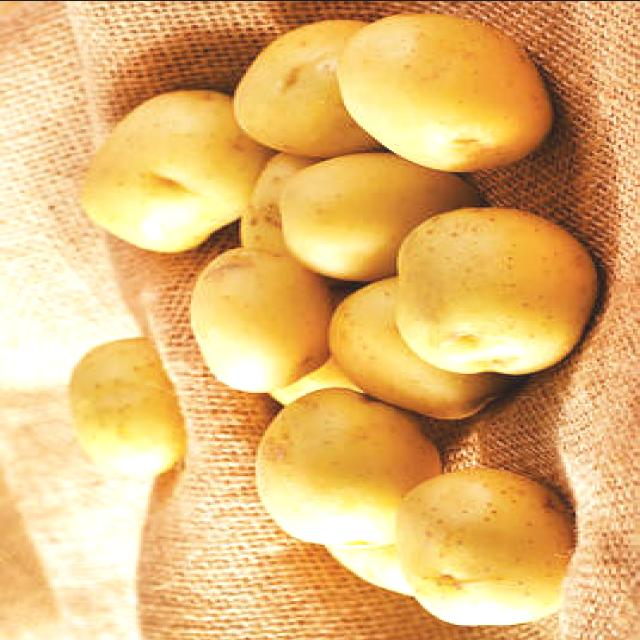potato: (330, 9, 557, 176), (391, 204, 596, 373), (392, 463, 576, 628), (254, 390, 446, 548), (83, 88, 250, 251), (277, 152, 461, 274), (188, 248, 324, 395), (233, 17, 369, 159), (70, 336, 192, 478)
